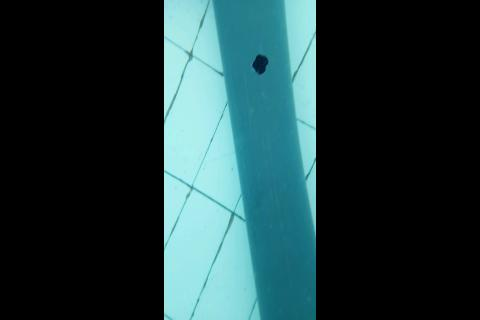kebocoran: (251, 51, 269, 76)
